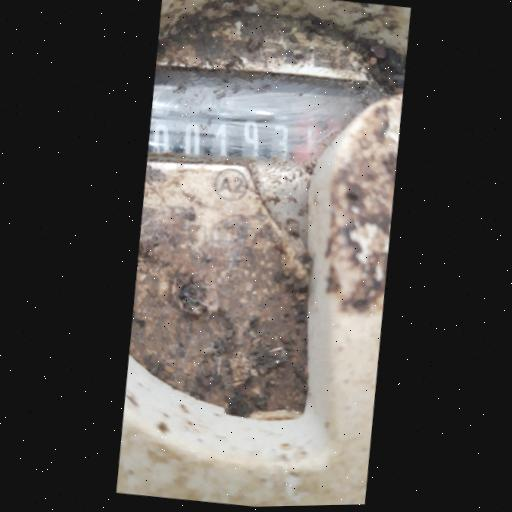0: (171, 111, 212, 162), (147, 113, 180, 161)
1: (203, 113, 244, 163)
3: (259, 111, 298, 167)
5: (287, 110, 326, 167)
9: (234, 114, 270, 165)
border_water_meter_number: (145, 87, 366, 188)
